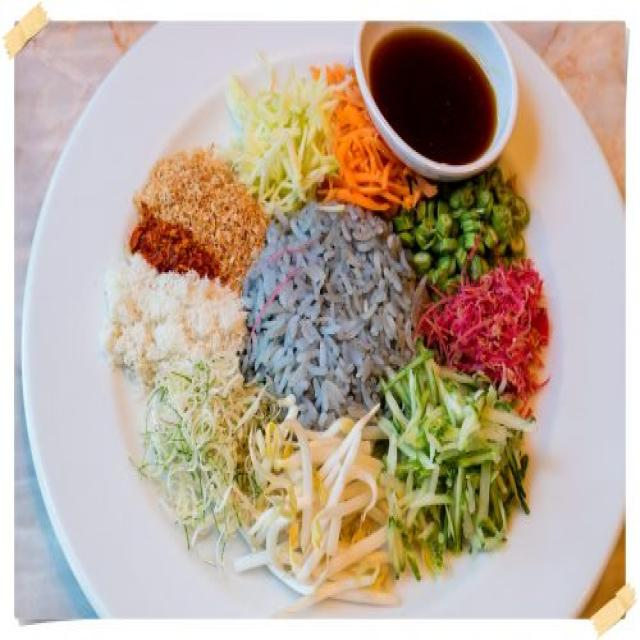carb: (258, 221, 427, 432)
rice salad: (59, 32, 574, 599)
vegetable: (173, 372, 520, 580)
